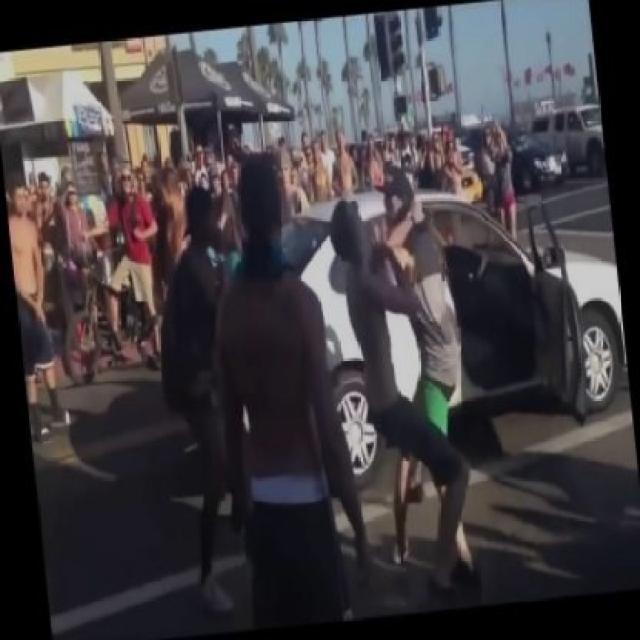fight: (328, 180, 477, 586)
non-fight: (192, 147, 382, 623)
